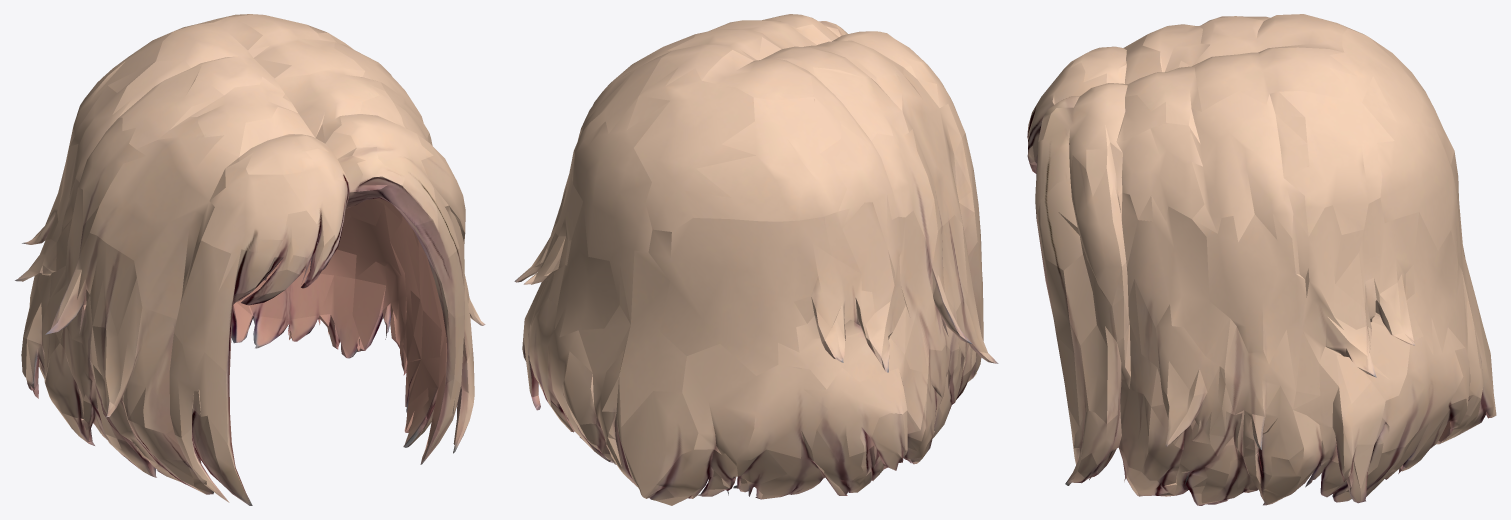
The model's file is fennal_f-carre.glb.
3 views of the same model, side by side, from view 1: azimuth 30°, elevation 25°; view 2: azimuth 150°, elevation 25°; view 3: azimuth 270°, elevation 25° (orthographic). The views are drawn at different scales.
Visible parts, largest first — view 1: geometry_0; view 2: geometry_0; view 3: geometry_0.
Boxes of the visible parts, bbox=[...] form: geometry_0: bbox=[15, 14, 485, 505]; geometry_0: bbox=[514, 14, 998, 505]; geometry_0: bbox=[1027, 14, 1496, 505].
Size of the model in its own units: 1.86 by 1.68 by 1.75.
1 material, 1 textured.
